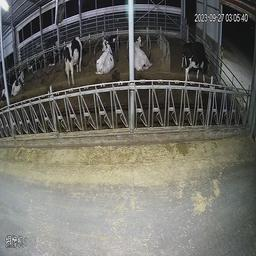cow: (179, 31, 216, 89), (89, 34, 121, 78), (63, 34, 85, 85), (132, 30, 156, 76), (10, 62, 33, 99)
